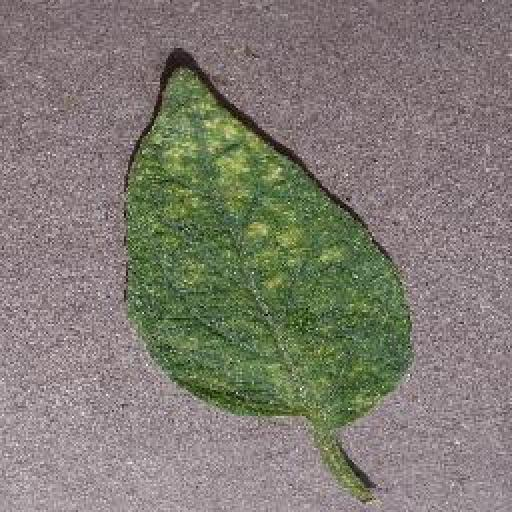disease_tomato: (124, 61, 413, 427)
